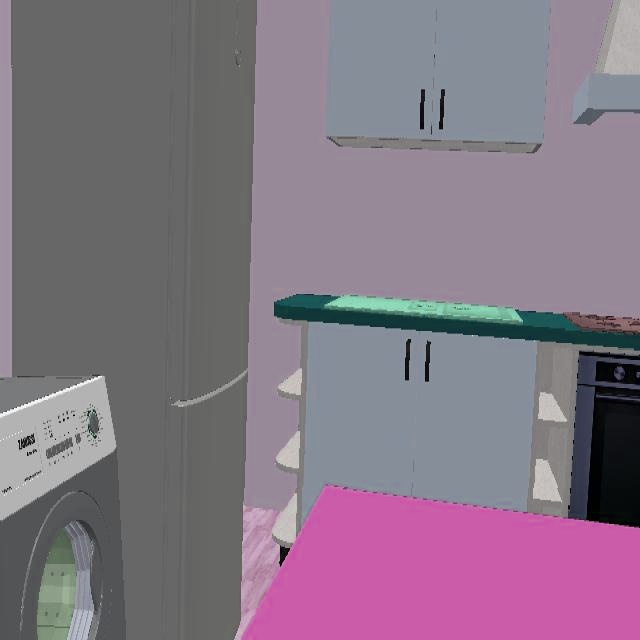cabinet: (272, 324, 577, 550), (326, 0, 552, 157)
countertop: (273, 294, 640, 350)
fridge: (11, 0, 257, 640)
oven: (569, 350, 640, 529)
stove: (565, 313, 640, 335)
table: (242, 488, 639, 640)
